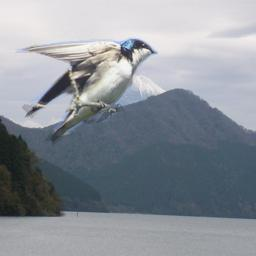Swallow: (15, 36, 158, 145)
